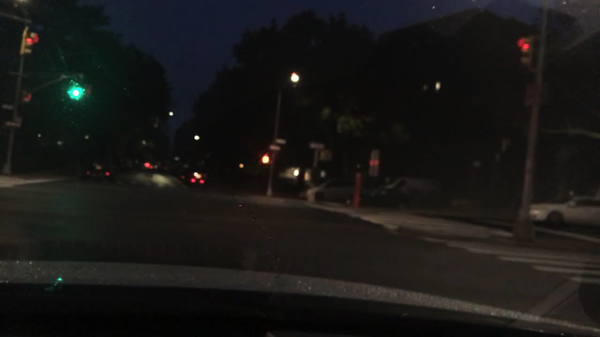car: (528, 192, 598, 232), (369, 176, 441, 208), (298, 177, 374, 202), (82, 159, 115, 180), (180, 170, 209, 190), (140, 159, 160, 172)
traffic light: (19, 26, 39, 55), (518, 37, 533, 68), (68, 88, 81, 100), (21, 90, 32, 102), (261, 156, 270, 163)
traffic sign: (525, 84, 548, 107), (10, 71, 28, 77), (269, 145, 282, 153), (1, 103, 14, 110), (6, 122, 21, 128), (309, 143, 324, 149), (274, 138, 286, 145)
